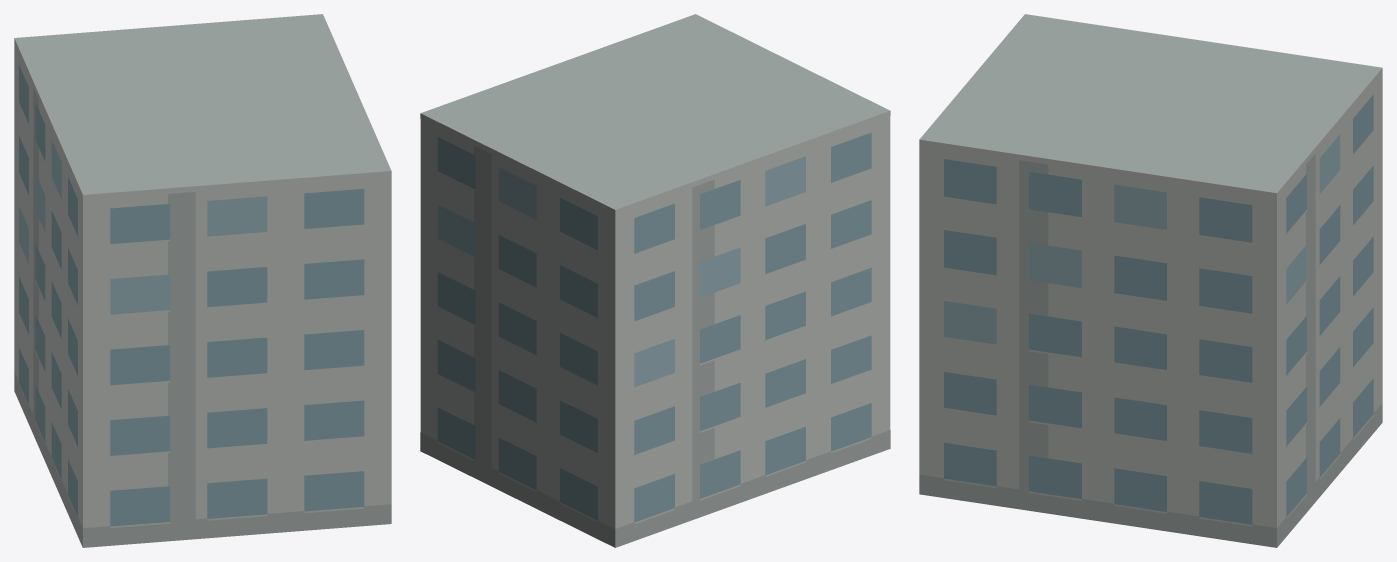
Rendered from residential-3503a5b7-58eb-482a-afc7-758dfe61a7bf.glb.
3 renders of one model, left to right at view 1: azimuth 30°, elevation 25°; view 2: azimuth 150°, elevation 25°; view 3: azimuth 270°, elevation 25°, orthographic. The views are drawn at different scales.
Parts seen in each view (by area): view 1: residential-3503a5b7-58eb-482a-afc7-758dfe61a7bf.tmp; view 2: residential-3503a5b7-58eb-482a-afc7-758dfe61a7bf.tmp; view 3: residential-3503a5b7-58eb-482a-afc7-758dfe61a7bf.tmp.
Part boxes in pixels (x1,y1,x2,y2): residential-3503a5b7-58eb-482a-afc7-758dfe61a7bf.tmp: (14,14,391,547); residential-3503a5b7-58eb-482a-afc7-758dfe61a7bf.tmp: (420,14,890,547); residential-3503a5b7-58eb-482a-afc7-758dfe61a7bf.tmp: (919,14,1382,547).
Size of the model in its own units: 16.53 by 15.25 by 18.07.
